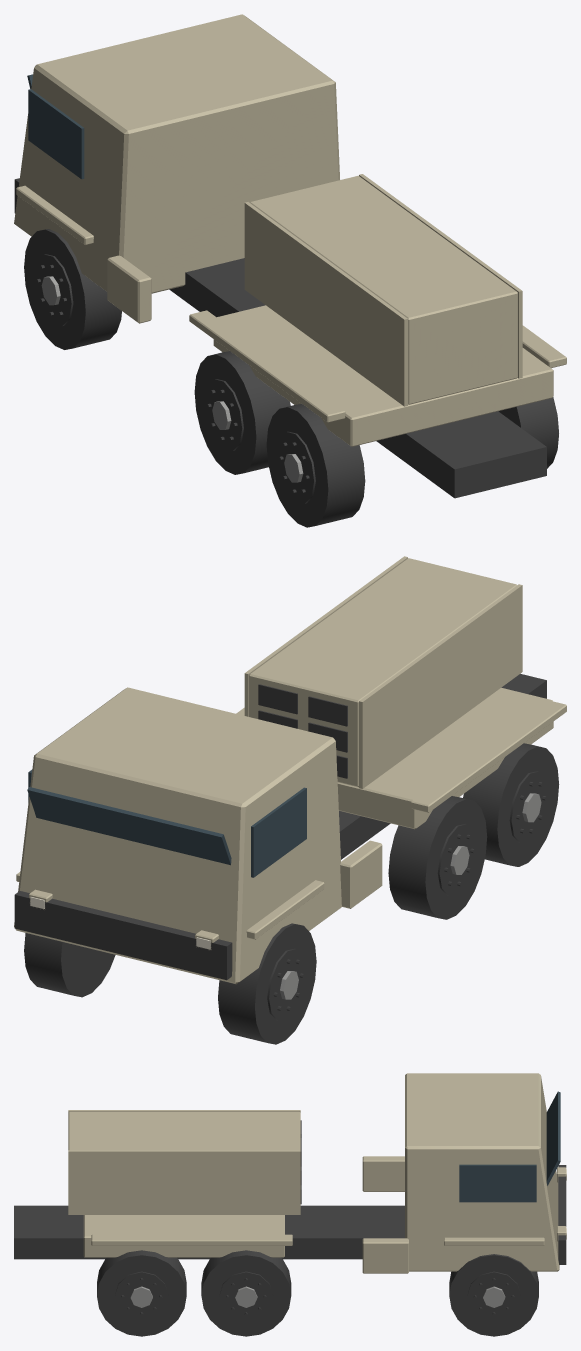
The model's file is usa_cst_mhimars.glb.
3 views of the same model, one above another, from view 1: azimuth 30°, elevation 25°; view 2: azimuth 150°, elevation 25°; view 3: azimuth 270°, elevation 25° (orthographic). The views are drawn at different scales.
Visible parts, largest first — view 1: body, barrel, turret, wheel_4, wheel_2, wheel_0, wheel_5; view 2: body, barrel, turret, wheel_2, wheel_0, wheel_4, wheel_1; view 3: body, barrel, wheel_3, wheel_5, turret, wheel_1.
Part boxes in pixels (left/top/right/bottom): body: left=14, top=14, right=566, bottom=498; barrel: left=244, top=174, right=522, bottom=406; turret: left=213, top=305, right=553, bottom=446; wheel_4: left=266, top=403, right=365, bottom=527; wheel_2: left=194, top=351, right=290, bottom=474; wheel_0: left=24, top=229, right=121, bottom=349; wheel_5: left=498, top=397, right=558, bottom=468; body: left=14, top=673, right=566, bottom=984; barrel: left=244, top=556, right=522, bottom=788; turret: left=337, top=687, right=553, bottom=829; wheel_2: left=388, top=796, right=487, bottom=919; wheel_0: left=218, top=923, right=316, bottom=1044; wheel_4: left=463, top=743, right=559, bottom=866; wheel_1: left=24, top=933, right=115, bottom=997; body: left=14, top=1073, right=566, bottom=1273; barrel: left=68, top=1110, right=301, bottom=1214; wheel_3: left=201, top=1250, right=291, bottom=1336; wheel_5: left=97, top=1250, right=186, bottom=1336; turret: left=83, top=1215, right=284, bottom=1257; wheel_1: left=449, top=1254, right=538, bottom=1336.
Size of the model in its own units: 2.65 by 2.65 by 7.14.
